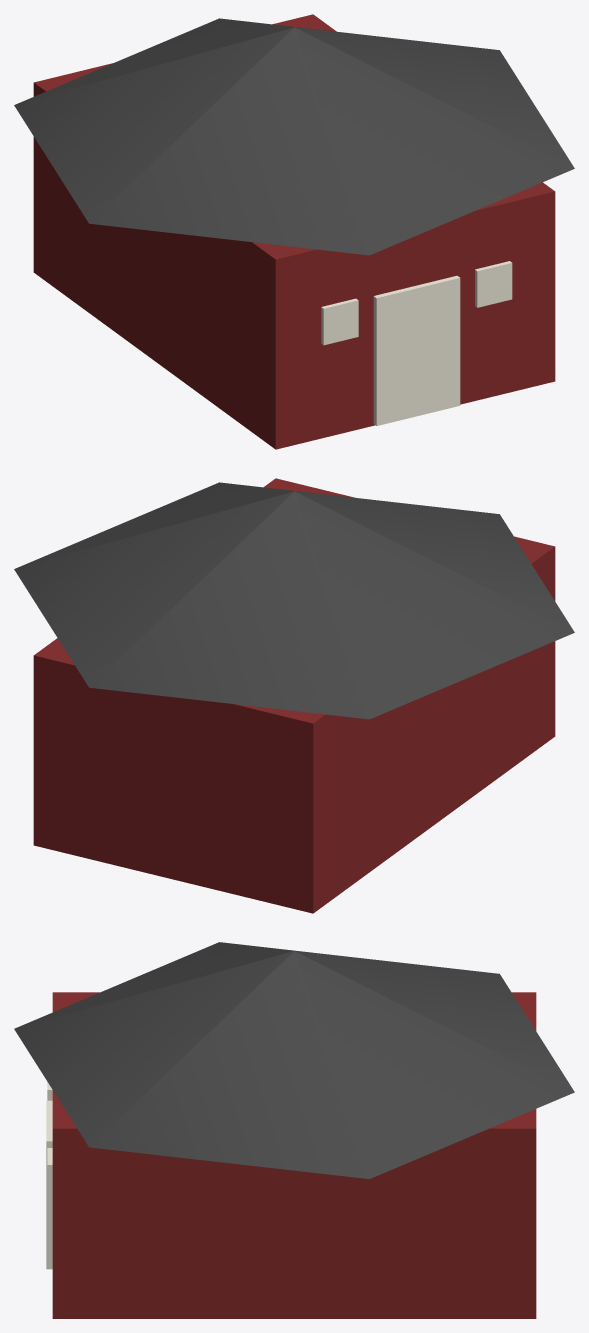
The model's file is barn_mid.glb.
The picture shows the model from 3 angles, top to bottom: view 1: azimuth 30°, elevation 25°; view 2: azimuth 150°, elevation 25°; view 3: azimuth 270°, elevation 25°; orthographic projection.
Bounding box in the file's own units: 13.91 × 8.2 × 13.91.
